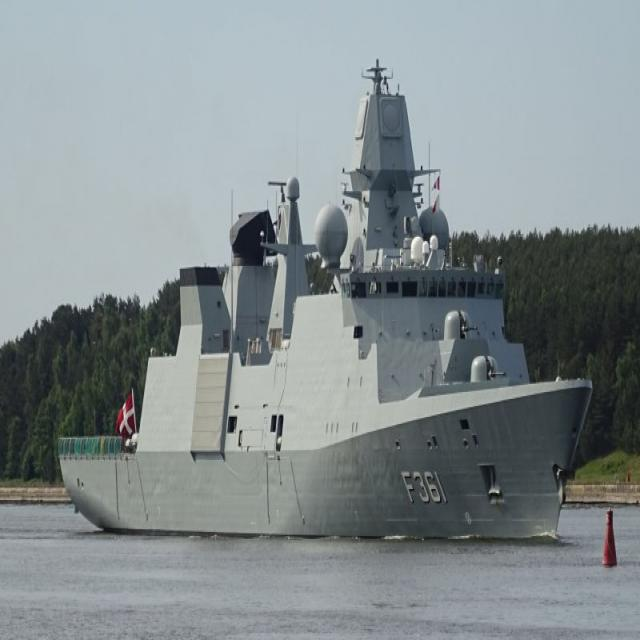Fragata: (54, 55, 595, 551)
